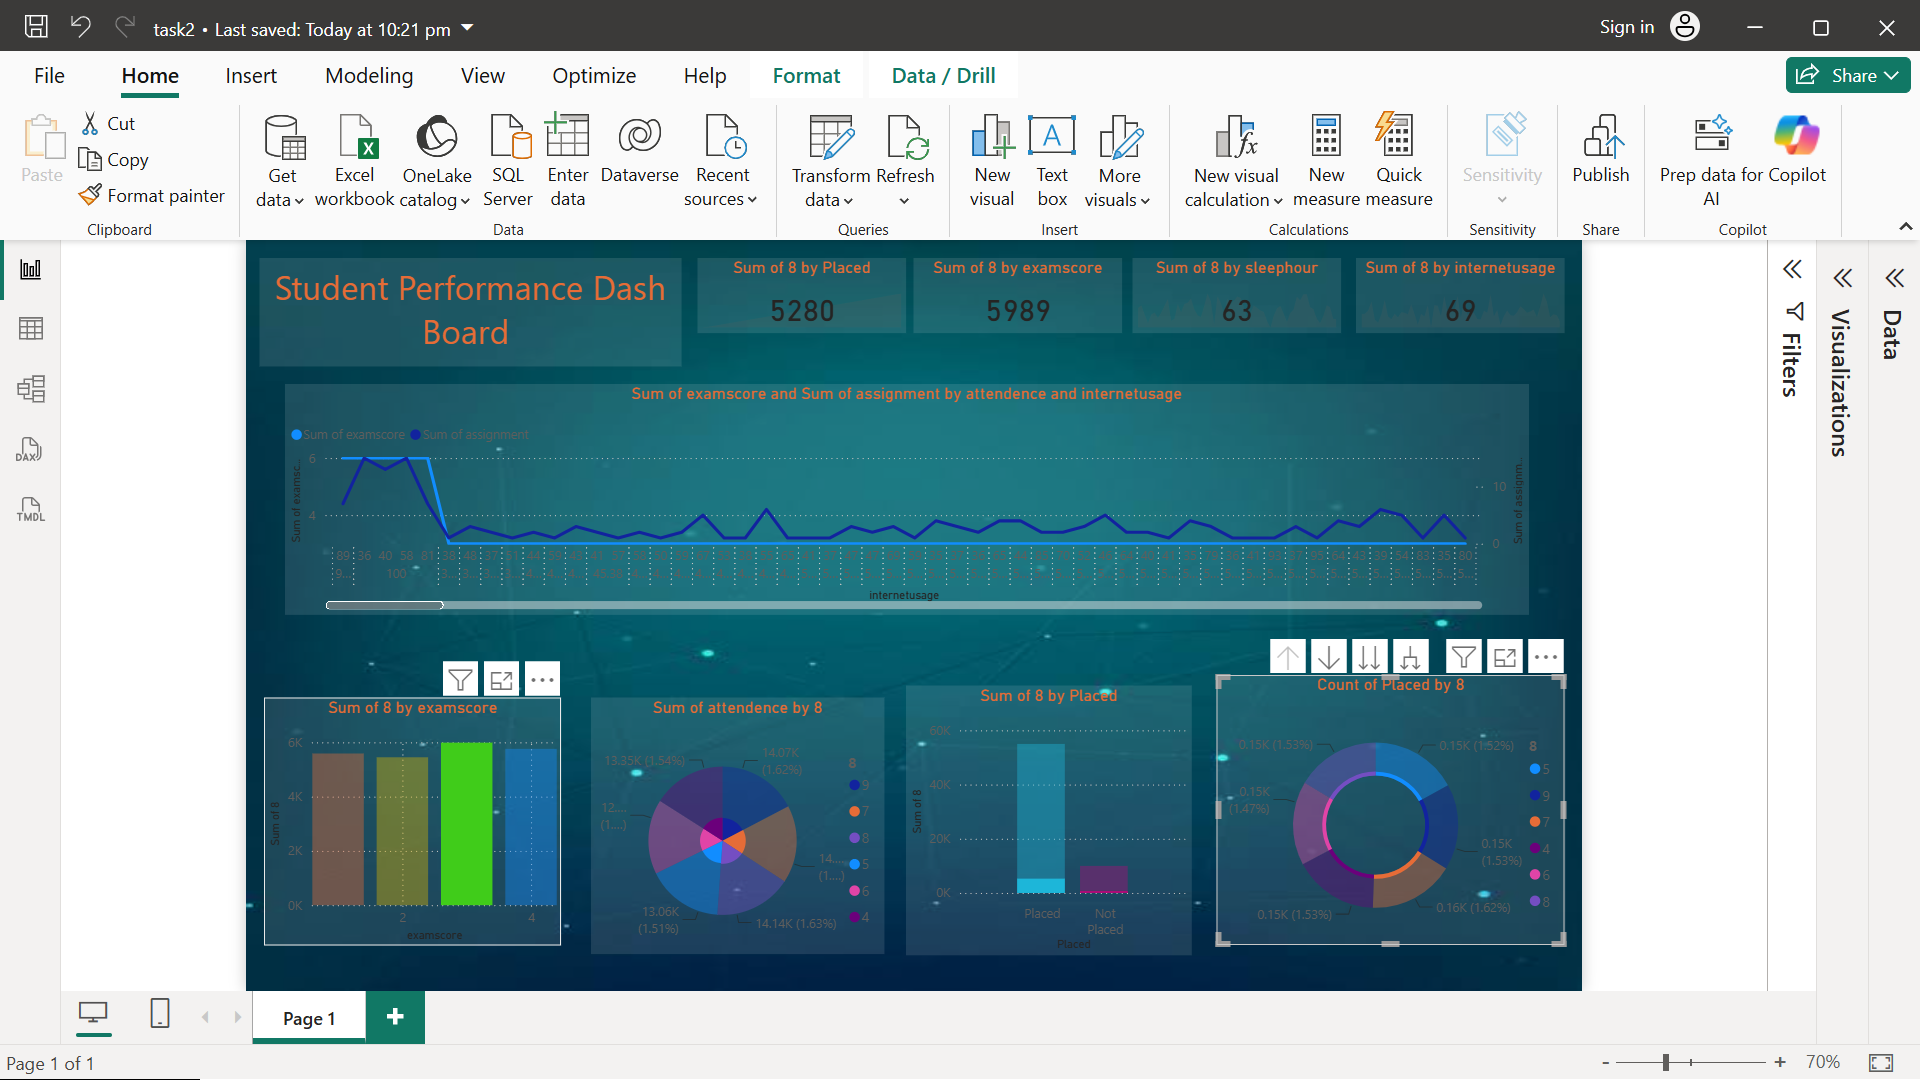

The dashboard page shown, as its layout file describes it:
{"tool":"powerbi","page":{"name":"Page 1","canvas":[1280,720],"ordinal":0},"visuals":[{"type":"clusteredColumnChart","fields":{"Category":["student_dataset_10000_rows.examscore"],"Y":["Sum(student_dataset_10000_rows.8)"]},"box":[17,438.4,285.4,238.1],"z":0},{"type":"pieChart","fields":{"Category":["student_dataset_10000_rows.8"],"Y":["Sum(student_dataset_10000_rows.attendence)"]},"box":[330.7,438.4,281.6,245.7],"z":1},{"type":"columnChart","fields":{"Category":["student_dataset_10000_rows.Placed"],"Y":["Sum(student_dataset_10000_rows.8)"]},"box":[633.1,427.1,274,258.9],"z":2},{"type":"lineChart","fields":{"Category":["student_dataset_10000_rows.attendence","student_dataset_10000_rows.internetusage"],"Y":["Sum(student_dataset_10000_rows.examscore)"],"Y2":["Sum(student_dataset_10000_rows.assignment)"]},"box":[37.8,138,1192.5,221.1],"z":3},{"type":"textbox","box":[13.2,17,404.4,103.9],"z":4},{"type":"kpi","fields":{"TrendLine":["student_dataset_10000_rows.Placed"],"Indicator":["Sum(student_dataset_10000_rows.8)"]},"box":[432.8,17,200.3,71.8],"z":5},{"type":"kpi","fields":{"TrendLine":["student_dataset_10000_rows.sleephour"],"Indicator":["Sum(student_dataset_10000_rows.8)"]},"box":[850.4,17,200.3,71.8],"z":6},{"type":"kpi","fields":{"TrendLine":["student_dataset_10000_rows.examscore"],"Indicator":["Sum(student_dataset_10000_rows.8)"]},"box":[640.6,17,200.3,71.8],"z":7},{"type":"kpi","fields":{"TrendLine":["student_dataset_10000_rows.internetusage"],"Indicator":["Sum(student_dataset_10000_rows.8)"]},"box":[1063.9,17,200.3,71.8],"z":8},{"type":"donutChart","fields":{"Category":["student_dataset_10000_rows.8","student_dataset_10000_rows.examscore"],"Y":["CountNonNull(student_dataset_10000_rows.Placed)"]},"box":[929.8,417.6,334.5,258.9],"z":9}]}

Visuals, with their boxes on the page's 1280x720 design canvas (x1, y1, x2, y2). These are canvas units, not pixel positions in the 1920x1080 screenshot, which may show the page scaled, cropped or inside an application window:
clusteredColumnChart - student_dataset_10000_rows.examscore x Sum(student_dataset_10000_rows.8): (x1=17, y1=438, x2=302, y2=676)
pieChart - student_dataset_10000_rows.8 x Sum(student_dataset_10000_rows.attendence): (x1=331, y1=438, x2=612, y2=684)
columnChart - student_dataset_10000_rows.Placed x Sum(student_dataset_10000_rows.8): (x1=633, y1=427, x2=907, y2=686)
lineChart - student_dataset_10000_rows.attendence x student_dataset_10000_rows.internetusage: (x1=38, y1=138, x2=1230, y2=359)
textbox: (x1=13, y1=17, x2=418, y2=121)
kpi - student_dataset_10000_rows.Placed x Sum(student_dataset_10000_rows.8): (x1=433, y1=17, x2=633, y2=89)
kpi - student_dataset_10000_rows.sleephour x Sum(student_dataset_10000_rows.8): (x1=850, y1=17, x2=1051, y2=89)
kpi - student_dataset_10000_rows.examscore x Sum(student_dataset_10000_rows.8): (x1=641, y1=17, x2=841, y2=89)
kpi - student_dataset_10000_rows.internetusage x Sum(student_dataset_10000_rows.8): (x1=1064, y1=17, x2=1264, y2=89)
donutChart - student_dataset_10000_rows.8 x student_dataset_10000_rows.examscore: (x1=930, y1=418, x2=1264, y2=676)
